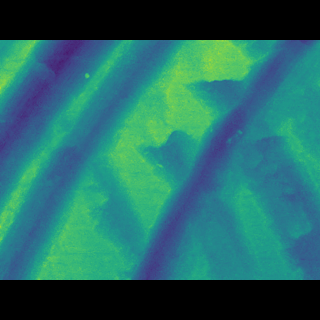Loch: (125, 69, 320, 249), (0, 70, 191, 250)
